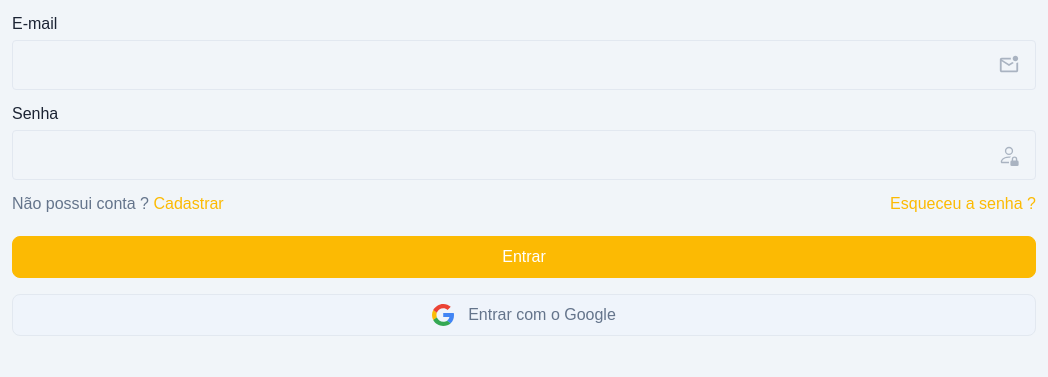
Test: LoginForm › Behavior › should display matching error when password is invalid
In the field named "email": [524, 65] box [12,40,1036,90], type "lucas@gmail.com"
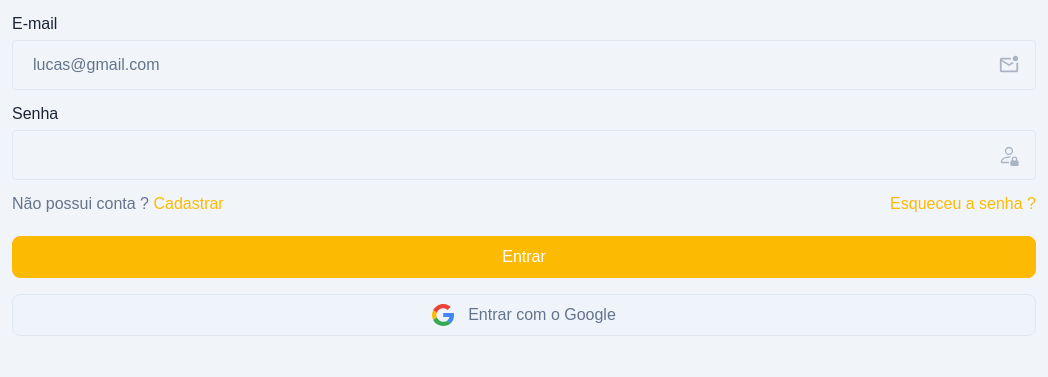
In the password field named "password": [524, 155] box [12,130,1036,180], type "123"
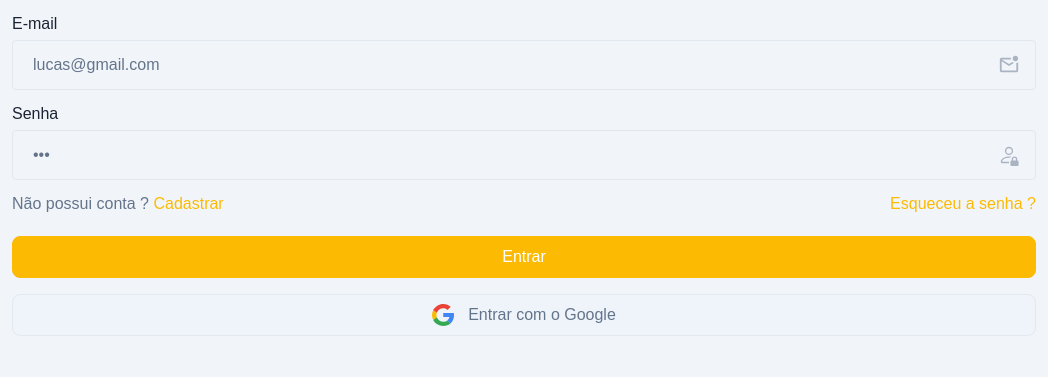
Submit the form from the button with test id "login-button", box [12,236,1036,278]
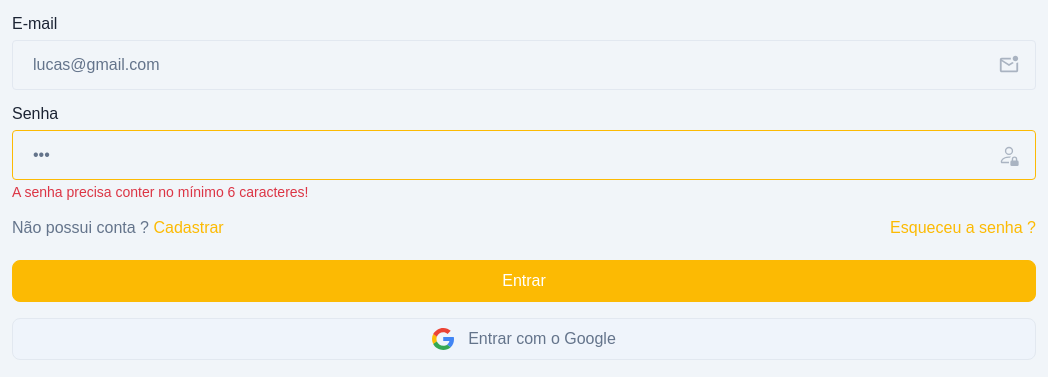
Expected: the number of messages is 1, [12,184,308,200]
Expected: the message reads "A senha precisa conter no mínimo 6 caracteres!", [12,184,308,200]
